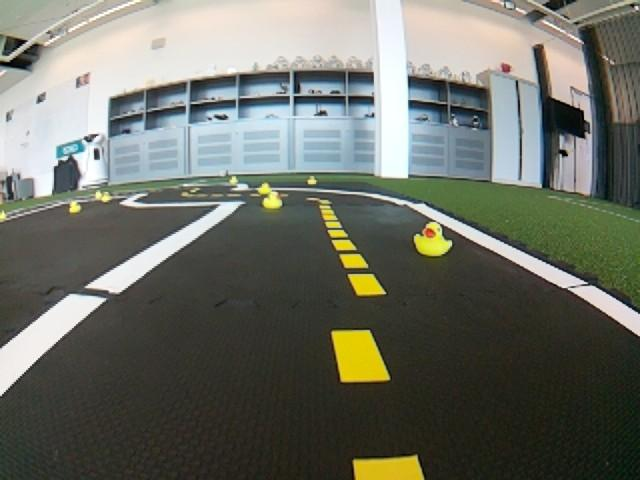Duckies: (413, 222, 452, 257), (263, 192, 283, 210), (258, 182, 273, 194), (69, 201, 81, 212), (102, 192, 113, 201), (1, 211, 8, 222), (307, 176, 316, 184), (94, 191, 102, 199), (230, 176, 238, 183)
